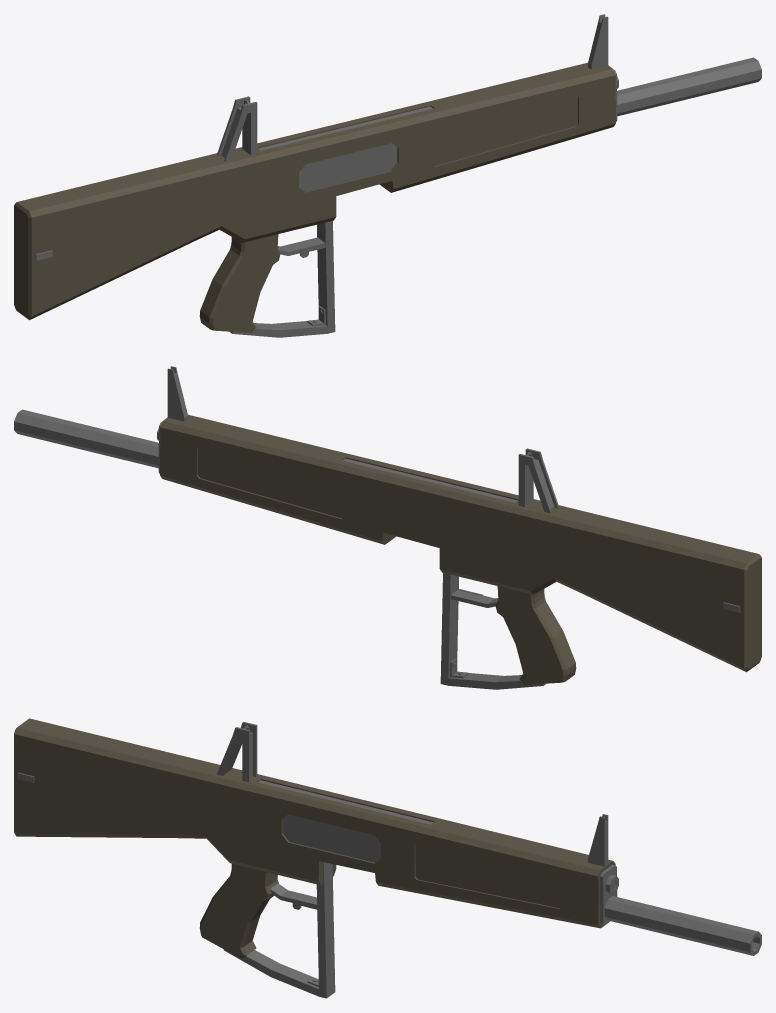
The model's file is Shotgun1_03.fbx.
The picture shows the model from 3 angles, top to bottom: view 1: azimuth 30°, elevation 25°; view 2: azimuth 150°, elevation 25°; view 3: azimuth 330°, elevation 25°; orthographic projection.
Parts seen in each view (by area): view 1: Shotgun1_03; view 2: Shotgun1_03; view 3: Shotgun1_03.
Boxes of the visible parts, left/top/right/bottom form: Shotgun1_03: left=14, top=14, right=761, bottom=337; Shotgun1_03: left=14, top=366, right=761, bottom=689; Shotgun1_03: left=14, top=718, right=761, bottom=998.
Size of the model in its own units: 0.9412 by 0.3044 by 0.0423.
